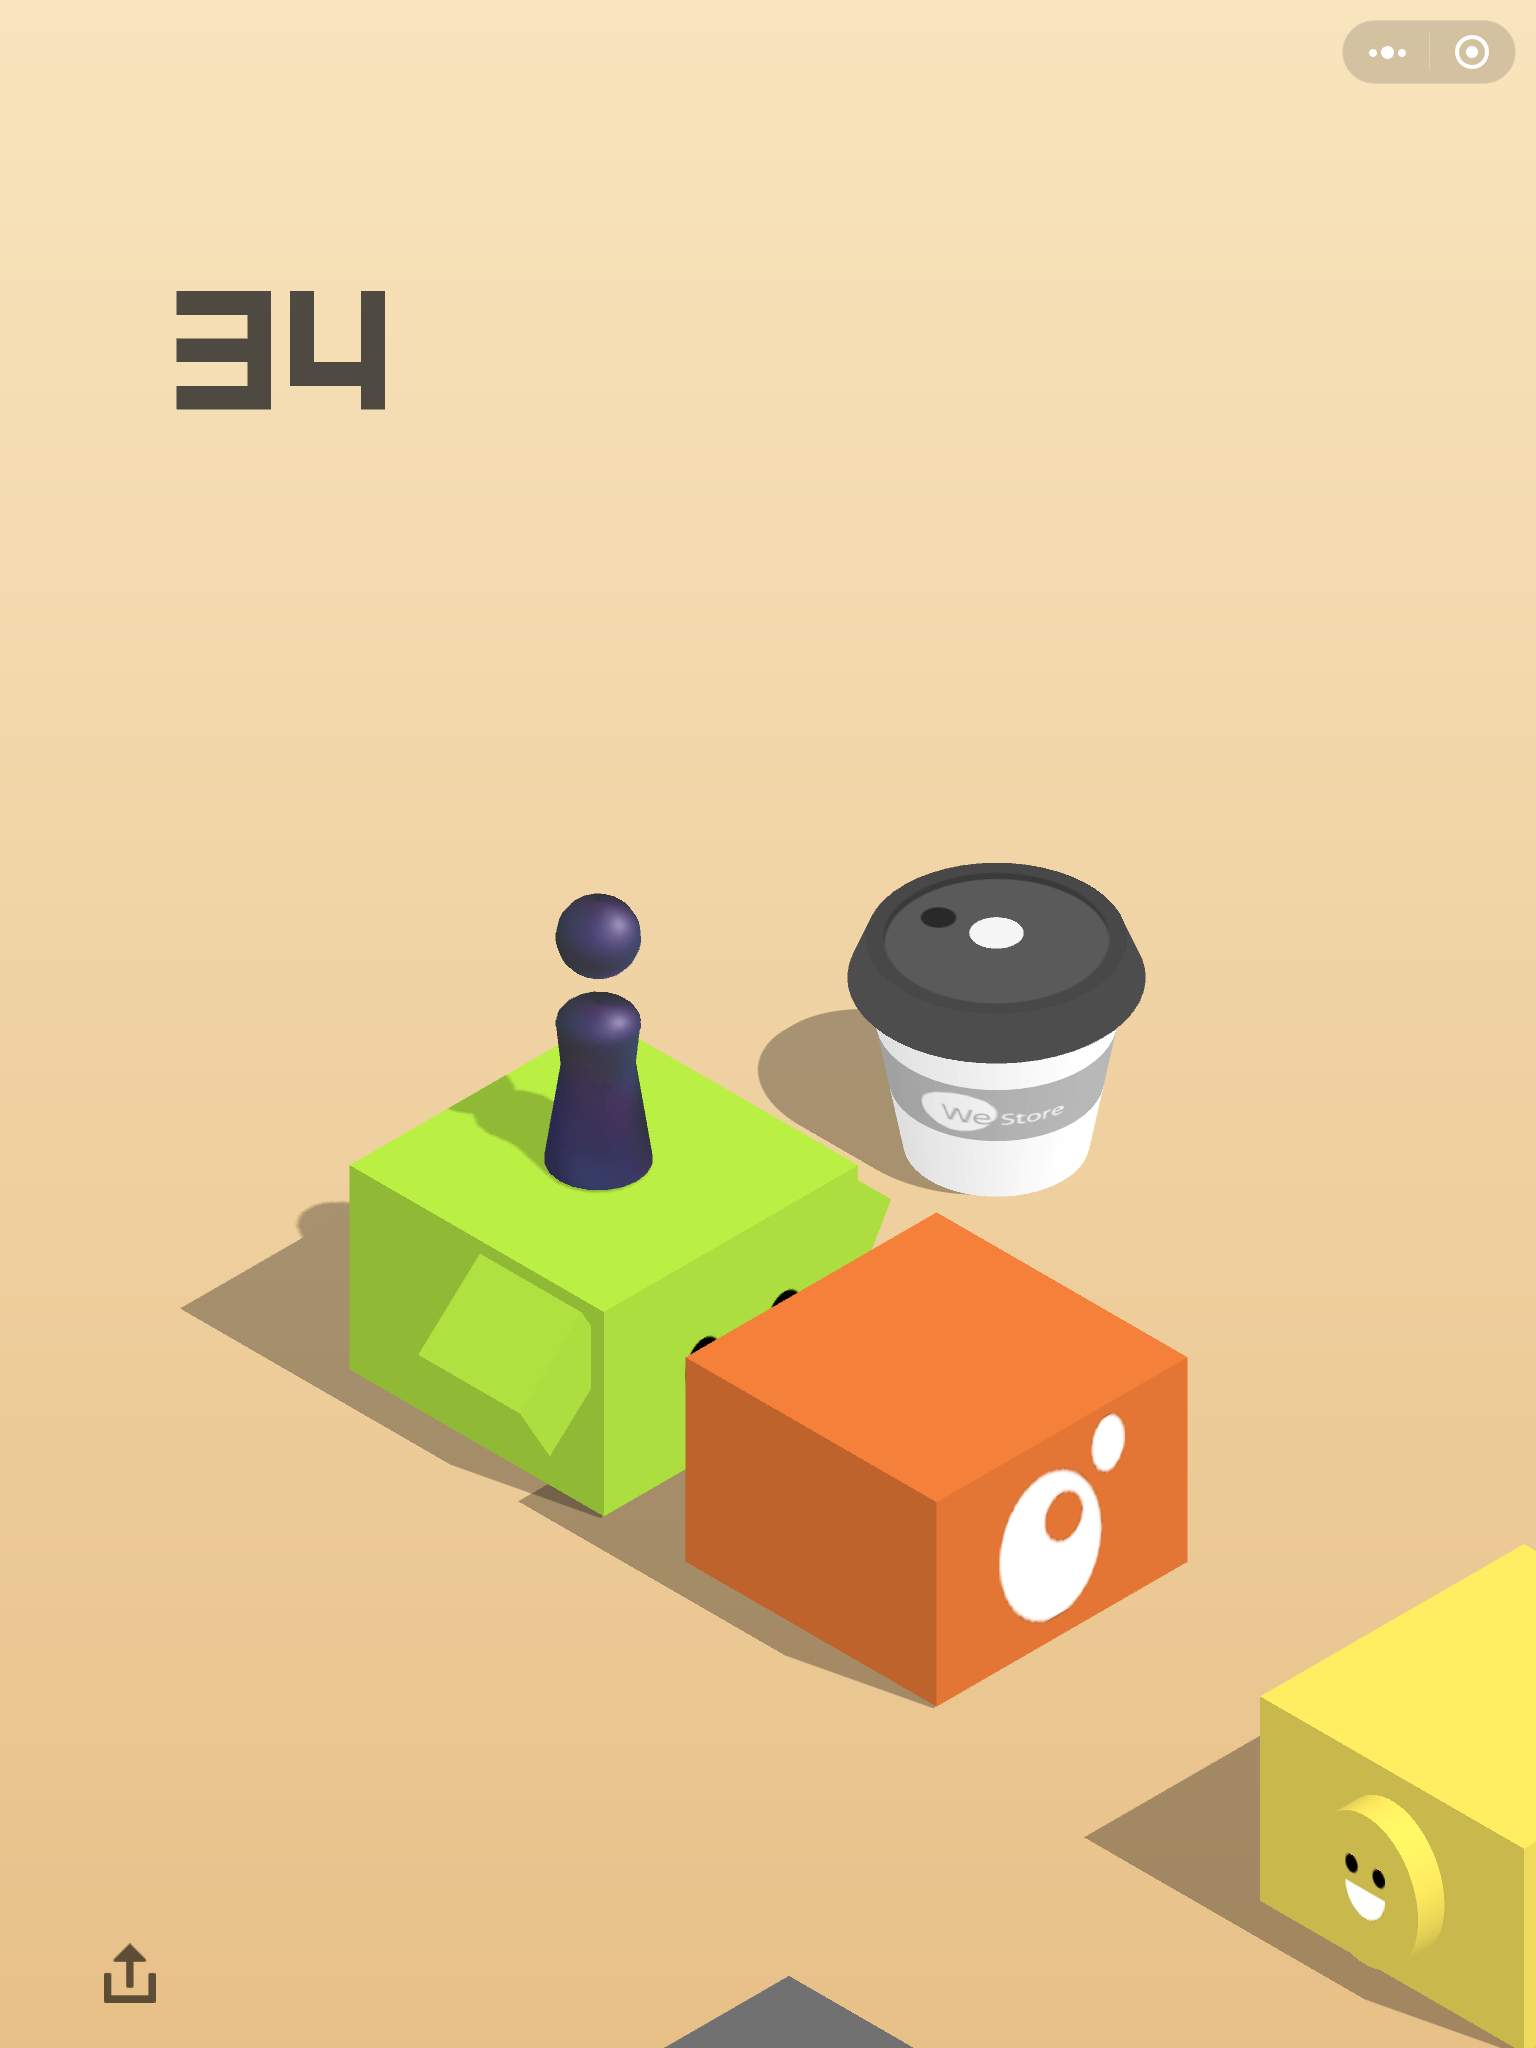c: (841, 855, 1150, 1206)
f: (337, 1019, 892, 1524), (674, 1211, 1194, 1708), (1254, 1534, 1536, 2048)
r: (537, 885, 657, 1200)
